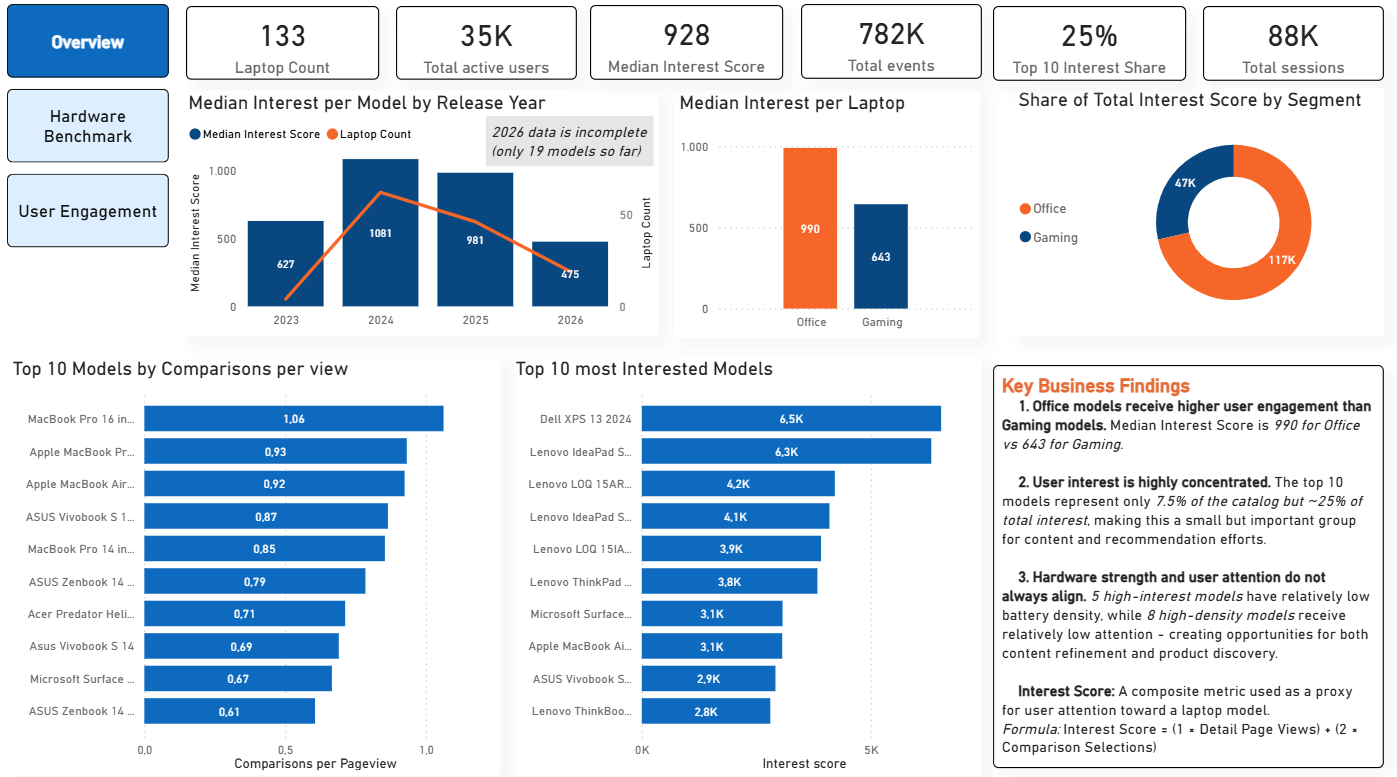

The page's visual inventory and layout, read from the dashboard file:
{"tool":"powerbi","page":{"name":"Overview","canvas":[1280,720],"ordinal":0},"visuals":[{"type":"card","fields":{"Values":["Sum(dashboard_overview_kpi.total_active_users)"]},"box":[368.2,11.9,161.7,65.8],"z":0},{"type":"card","fields":{"Values":["Sum(dashboard_overview_kpi.total_sessions)"]},"box":[1091,11.2,161.7,66.7],"z":1000},{"type":"card","fields":{"Values":["Sum(dashboard_overview_kpi.total_events)"]},"box":[730.3,10.1,161.7,66.7],"z":2000},{"type":"card","fields":{"Values":["_Measures.Laptop Count"]},"box":[180,11.9,172.7,65.8],"z":3000},{"type":"lineClusteredColumnComboChart","title":"Median Interest per Model by Release Year","fields":{"Category":["dashboard_laptop.year_introduce"],"Y":["_Measures.Median Interest Score"],"Y2":["_Measures.Laptop Count"]},"box":[177.7,87.3,425.7,218.9],"z":4000},{"type":"donutChart","title":"Share of Total Interest Score by Segment","fields":{"Y":["_Measures.Total Interest Score"],"Category":["dashboard_laptop.segment"]},"box":[920.6,85.3,332.3,221.9],"z":5000},{"type":"pageNavigator","box":[20.1,10,145.6,220.9],"z":6000},{"type":"clusteredColumnChart","title":"Median Interest per Laptop","fields":{"Category":["dashboard_laptop.segment"],"Y":["_Measures.Median Interest Score"]},"box":[617.4,87.3,274.1,220.9],"z":7000},{"type":"card","fields":{"Values":["_Measures.Median Interest Score"]},"box":[542.1,11,172.7,66.7],"z":9000},{"type":"textbox","box":[902.7,332.7,350,360.9],"z":10000},{"type":"card","fields":{"Values":["_Measures.Top 10 Interest Share"]},"box":[902.8,11.2,172.7,66.7],"z":11000},{"type":"textbox","box":[448.7,110.1,150.4,44.8],"z":14000},{"type":"clusteredBarChart","title":"Top 10 most Interested Models","fields":{"Category":["dashboard_laptop.name"],"Y":["Sum(dashboard_laptop.interest_score)"]},"box":[469.8,326.3,421.6,375.5],"z":15000},{"type":"clusteredBarChart","title":"Top 10 Models by Comparisons per view","fields":{"Category":["dashboard_laptop.name"],"Y":["Sum(dashboard_laptop.compare_view_ratio)"]},"box":[20.1,326.3,441.7,375.5],"z":17000}]}

Visuals, with their boxes in screenshot pixels (x1, y1, x2, y2), scaled from the page's 1280x720 canvas onto the 1397x777 screenshot:
card - Sum(dashboard_overview_kpi.total_active_users): region(402, 13, 578, 84)
card - Sum(dashboard_overview_kpi.total_sessions): region(1191, 12, 1367, 84)
card - Sum(dashboard_overview_kpi.total_events): region(797, 11, 974, 83)
card - _Measures.Laptop Count: region(196, 13, 385, 84)
"Median Interest per Model by Release Year" lineClusteredColumnComboChart: region(194, 94, 659, 330)
"Share of Total Interest Score by Segment" donutChart: region(1005, 92, 1367, 332)
pageNavigator: region(22, 11, 181, 249)
"Median Interest per Laptop" clusteredColumnChart: region(674, 94, 973, 333)
card - _Measures.Median Interest Score: region(592, 12, 780, 84)
textbox: region(985, 359, 1367, 749)
card - _Measures.Top 10 Interest Share: region(985, 12, 1174, 84)
textbox: region(490, 119, 654, 167)
"Top 10 most Interested Models" clusteredBarChart: region(513, 352, 973, 757)
"Top 10 Models by Comparisons per view" clusteredBarChart: region(22, 352, 504, 757)
